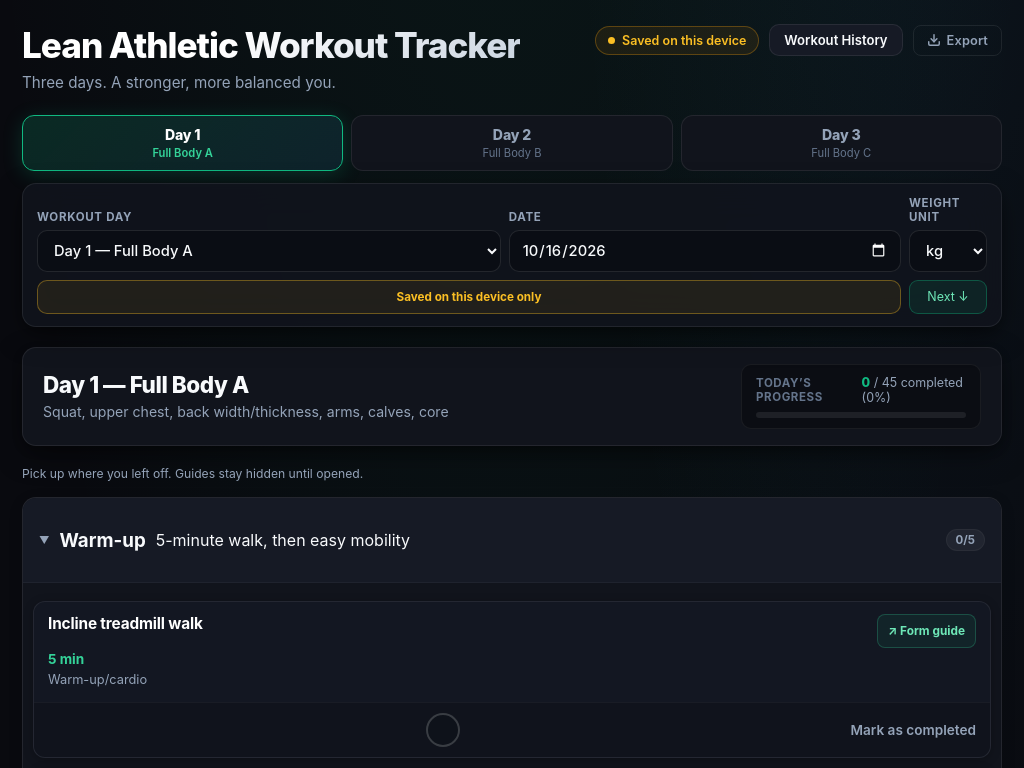
Test: daily resume navigation › lets fast day selections finish before automatic scrolling
The width and height of the screenshot is (1024, 768).
Click the tab "Day 2 Full Body B" at (512, 143), box x1=351 y1=115 x2=673 y2=171
Wait 100 ms
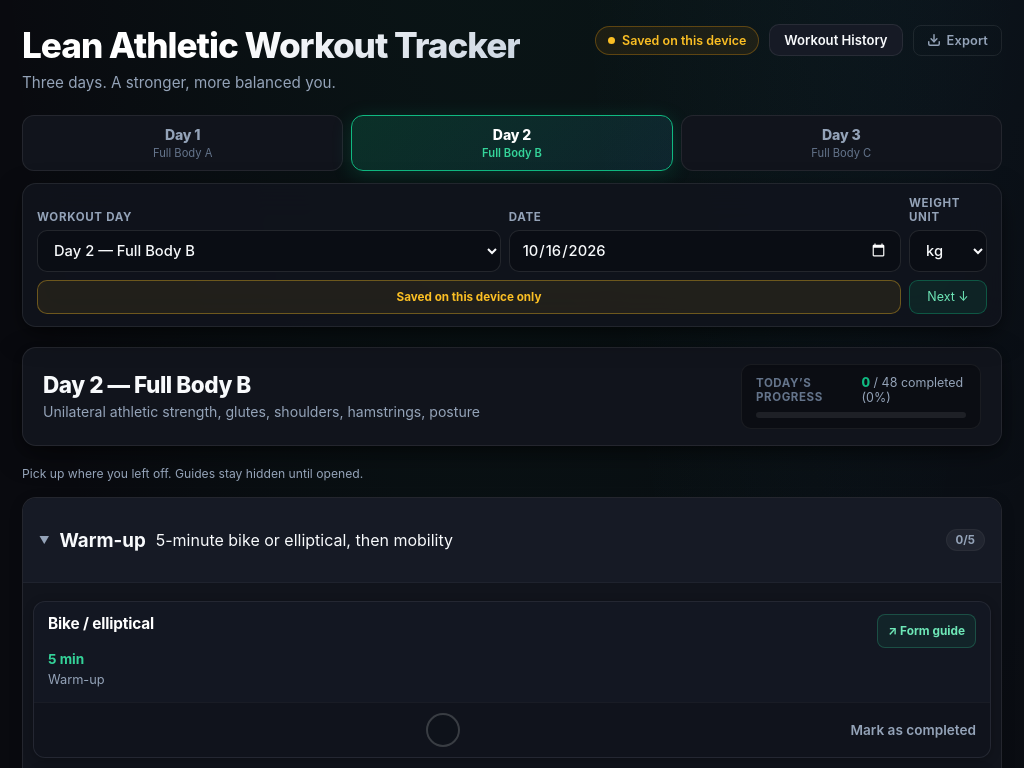
Click the tab "Day 3 Full Body C" at (841, 143), box x1=681 y1=115 x2=1002 y2=171
Wait 350 ms
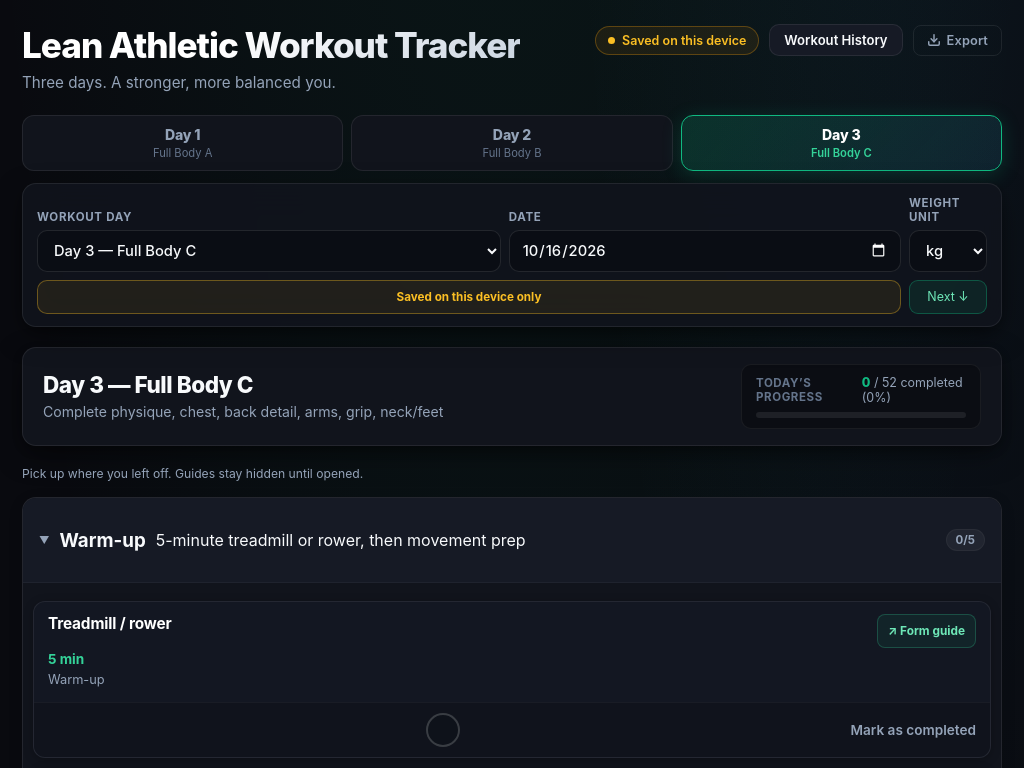
Now the dropdown labelled "Workout Day" shows "Day 3 — Full Body C", box x1=37 y1=230 x2=501 y2=272
